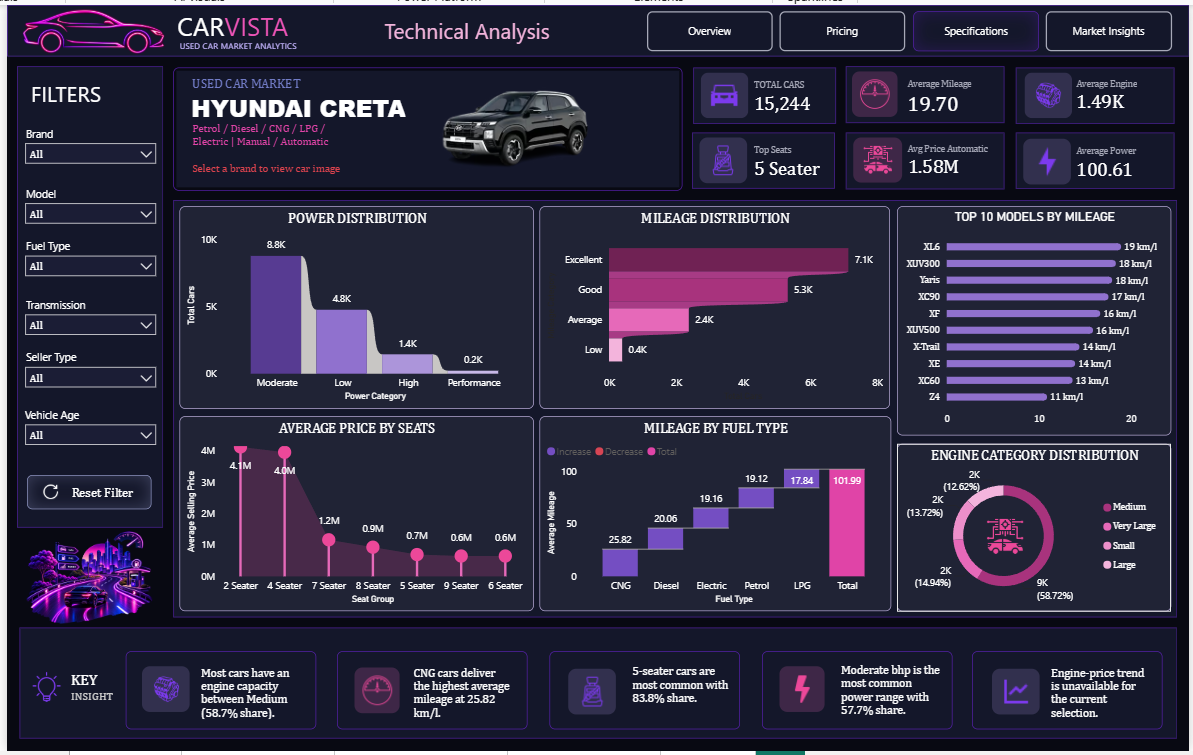

The page's visual inventory and layout, read from the dashboard file:
{"tool":"powerbi","page":{"name":"Technical Analysis","canvas":[1490,940],"ordinal":2},"visuals":[{"type":"shape","box":[0,0,1490,65],"z":0},{"type":"image","box":[29.7,834.1,40,50],"z":0,"group":"g9"},{"type":"group","id":"g1","title":"Group 1","box":[210,0,253.8,67.5],"z":1000},{"type":"textbox","box":[210,0,174.6,56.3],"z":1000,"group":"g1"},{"type":"textbox","box":[75.2,834.1,75.5,50.9],"z":1000,"group":"g9"},{"type":"textbox","box":[213,36,250.7,31],"z":2000,"group":"g1"},{"type":"shape","box":[12.9,77.1,184.3,581.4],"z":2000},{"type":"shape","box":[210,246,1265,526],"z":3000},{"type":"shape","box":[1056.7,160,200,71.7],"z":4000},{"type":"shape","box":[863.3,160,180,70.8],"z":5000},{"type":"shape","box":[15.7,785,1458.8,140],"z":6000},{"type":"shape","box":[1215.7,815,240,98.6],"z":7000},{"type":"shape","box":[950.7,815,240,98.6],"z":8000},{"type":"shape","box":[683.2,815,240,98.6],"z":9000},{"type":"shape","box":[415.7,813.8,240,98.6],"z":10000},{"type":"shape","box":[149.4,815,240,98.6],"z":11000},{"type":"shape","box":[1150.6,48.8,141.7,15.8],"z":12000},{"type":"textbox","box":[25,88.8,125,48.8],"z":13000},{"type":"group","id":"g2","title":"Group 2","box":[12.5,148,185,63.4],"z":14000},{"type":"group","id":"g3","title":"Group 2","box":[12.5,223,185,63],"z":15000},{"type":"group","id":"g4","title":"Group 2","box":[12.5,289.5,185,63],"z":16000},{"type":"group","id":"g5","title":"Group 2","box":[12.5,364.3,185,63],"z":17000},{"type":"group","id":"g6","title":"Group 2","box":[12.5,430.8,185,63],"z":18000},{"type":"group","id":"g7","title":"Group 2","box":[12.5,503,185,63.5],"z":19000},{"type":"shape","box":[210,78.3,641.7,155],"z":20000},{"type":"clusteredBarChart","title":"TOP 10 MODELS BY MILEAGE","fields":{"Category":["cardekho_dataset.model"],"Y":["cardekho_dataset.Average Mileage"]},"box":[1121.4,254.3,345.7,288.6],"z":21000},{"type":"barChart","title":"MILEAGE DISTRIBUTION","fields":{"Category":["cardekho_dataset.Mileage Category"],"Y":["cardekho_dataset.Total Cars"]},"box":[671.7,253.3,441.7,255],"z":22000},{"type":"shape","box":[864.1,78.2,180,71.2],"z":23000},{"type":"slicer","fields":{"Values":["cardekho_dataset.brand"]},"box":[12.5,163.9,185,47.5],"z":23000,"group":"g2"},{"type":"slicer","fields":{"Values":["cardekho_dataset.model"]},"box":[12.5,238.9,185,47.5],"z":23000,"group":"g3"},{"type":"slicer","fields":{"Values":["cardekho_dataset.fuel_type"]},"box":[12.5,305.4,185,47.5],"z":23000,"group":"g4"},{"type":"slicer","fields":{"Values":["cardekho_dataset.transmission_type"]},"box":[12.5,380.2,185,47.5],"z":23000,"group":"g5"},{"type":"slicer","fields":{"Values":["cardekho_dataset.seller_type"]},"box":[12.5,446.8,185,47],"z":23000,"group":"g6"},{"type":"slicer","fields":{"Values":["cardekho_dataset.Vehicle Age Group"]},"box":[12.5,519,185,47.5],"z":23000,"group":"g7"},{"type":"shape","box":[1056.7,76.7,200,71.7],"z":24000},{"type":"textbox","box":[19.3,148,85.7,30.7],"z":24000,"group":"g2"},{"type":"textbox","box":[19.3,223,85.7,30.7],"z":24000,"group":"g3"},{"type":"textbox","box":[19.3,289.5,85.7,30.7],"z":24000,"group":"g4"},{"type":"textbox","box":[19.3,364.3,85.7,30.7],"z":24000,"group":"g5"},{"type":"textbox","box":[19.3,430.8,85.7,30.7],"z":24000,"group":"g6"},{"type":"textbox","box":[17.3,503,85.7,30.7],"z":24000,"group":"g7"},{"type":"textbox","box":[228.8,85,173.8,38.8],"z":25000},{"type":"shape","box":[25.7,592.9,157,42.9],"z":25000,"group":"g8"},{"type":"cardVisual","fields":{"Data":["cardekho_dataset.Total Cars"]},"box":[912,67,170,96.2],"z":26000},{"type":"image","box":[874.5,84.6,60,57.5],"z":27000},{"type":"image","box":[1066.7,166.7,61.7,56.7],"z":28000},{"type":"image","box":[872.5,167.1,60,57.5],"z":29000},{"type":"image","box":[1065,83.3,57.5,57.5],"z":30000},{"type":"cardVisual","fields":{"Data":["cardekho_dataset.Top Seats"]},"box":[912,149,153.3,95],"z":31000},{"type":"image","box":[435,85,408.3,148.3],"z":32000},{"type":"cardVisual","fields":{"Data":["Car_Images.Hero Car Name"]},"box":[203.8,93.8,415,67.5],"z":33000},{"type":"cardVisual","fields":{"Data":["Car_Images.Hero Subtitle"]},"box":[228.8,140,221.2,63.8],"z":34000},{"type":"cardVisual","fields":{"Data":["Car_Images.Car Image Status"]},"box":[228.8,191.2,221.2,75],"z":35000},{"type":"group","id":"g8","title":"Group 3","box":[25.7,592.9,157,43.3],"z":36000},{"type":"image","box":[169.4,833.8,60,57.5],"z":37000},{"type":"image","box":[438.2,835,57,57.8],"z":38000},{"type":"image","box":[707.9,835.8,60,57.8],"z":39000},{"type":"image","box":[973.2,833.8,57,57.8],"z":40000},{"type":"image","box":[1240.7,836.3,60,57.8],"z":41000},{"type":"cardVisual","fields":{"Data":["cardekho_dataset.Specification Insight Engine"]},"box":[240,825,138.3,100],"z":42000},{"type":"cardVisual","fields":{"Data":["cardekho_dataset.Specification Insight Mileage"]},"box":[506.7,825,133.3,100],"z":43000},{"type":"cardVisual","fields":{"Data":["cardekho_dataset.Specification Insight Seats"]},"box":[783,824.3,138,111.7],"z":44000},{"type":"cardVisual","fields":{"Data":["cardekho_dataset.Specification Insight Power"]},"box":[1045.3,822,135.7,114],"z":45000},{"type":"cardVisual","fields":{"Data":["cardekho_dataset.Specification Insight Trend"]},"box":[1310,825,135,100],"z":46000},{"type":"group","id":"g9","title":"Group 4","box":[29.7,834.1,120.9,50.9],"z":47000},{"type":"donutChart","title":"ENGINE CATEGORY DISTRIBUTION","fields":{"Category":["cardekho_dataset.Engine Category"],"Y":["cardekho_dataset.Total Cars"]},"box":[1121.4,552.9,345.7,211.4],"z":48000},{"type":"lineChart","title":"AVERAGE PRICE BY SEATS","fields":{"Category":["cardekho_dataset.Seat Group"],"Y":["cardekho_dataset.Average Selling Price"]},"box":[217.1,518.6,446,245.7],"z":49000},{"type":"columnChart","title":"POWER DISTRIBUTION","fields":{"Category":["cardekho_dataset.Power Category"],"Y":["cardekho_dataset.Total Cars"]},"box":[216.7,253.3,446.7,255],"z":50000},{"type":"waterfallChart","title":"MILEAGE BY FUEL TYPE","fields":{"Category":["cardekho_dataset.fuel_type"],"Y":["cardekho_dataset.Average Mileage"]},"box":[671.4,518.6,443,245.7],"z":51000},{"type":"shape","box":[1271.7,160,200,71.2],"z":52000},{"type":"shape","box":[1271.7,78.3,200,71.2],"z":53000},{"type":"image","box":[33.8,593.1,43.8,43.1],"z":53010,"group":"g8"},{"type":"image","box":[1281.9,85.3,60,57.5],"z":54000},{"type":"image","box":[1279.9,167.8,60,57.5],"z":55000},{"type":"cardVisual","fields":{"Data":["cardekho_dataset.Avg Price Automatic"]},"box":[1106,148,165,95],"z":56000},{"type":"cardVisual","fields":{"Data":["cardekho_dataset.Average Power"]},"box":[1318,151.3,153.3,95],"z":57000},{"type":"cardVisual","fields":{"Data":["cardekho_dataset.Average Mileage"]},"box":[1106,68,153.3,95],"z":58000},{"type":"cardVisual","fields":{"Data":["cardekho_dataset.Average Engine"]},"box":[1319,66,153.3,95],"z":59000},{"type":"image","box":[0,0,218.3,65],"z":60000},{"type":"actionButton","box":[806.8,7.4,158.3,50],"z":61000},{"type":"actionButton","box":[1309.2,7.5,159.2,50],"z":62000},{"type":"actionButton","box":[973.3,7.5,158.8,50],"z":63000},{"type":"actionButton","box":[1141.7,7.5,158.8,50],"z":64000},{"type":"textbox","box":[450,10,258.6,50],"z":65000},{"type":"image","box":[1227.1,641.4,61.7,56.7],"z":69000},{"type":"image","box":[12.6,658.4,184.3,126],"z":69001}]}

Visuals, with their boxes in screenshot pixels (x1, y1, x2, y2), scaled from the page's 1490x940 canvas onto the 1193x755 screenshot:
shape: [0,0,1192,52]
image: [24,670,56,710]
"Group 1" group: [168,0,371,54]
textbox: [168,0,308,45]
textbox: [60,670,121,711]
textbox: [171,29,371,54]
shape: [10,62,158,529]
shape: [168,198,1181,620]
shape: [846,129,1006,186]
shape: [691,129,835,185]
shape: [13,631,1181,743]
shape: [973,655,1166,734]
shape: [761,655,953,734]
shape: [547,655,739,734]
shape: [333,654,525,733]
shape: [120,655,312,734]
shape: [921,39,1035,52]
textbox: [20,71,120,111]
"Group 2" group: [10,119,158,170]
"Group 2" group: [10,179,158,230]
"Group 2" group: [10,233,158,283]
"Group 2" group: [10,293,158,343]
"Group 2" group: [10,346,158,397]
"Group 2" group: [10,404,158,455]
shape: [168,63,682,187]
"TOP 10 MODELS BY MILEAGE" clusteredBarChart: [898,204,1175,436]
"MILEAGE DISTRIBUTION" barChart: [538,203,891,408]
shape: [692,63,836,120]
slicer - cardekho_dataset.brand: [10,132,158,170]
slicer - cardekho_dataset.model: [10,192,158,230]
slicer - cardekho_dataset.fuel_type: [10,245,158,283]
slicer - cardekho_dataset.transmission_type: [10,305,158,344]
slicer - cardekho_dataset.seller_type: [10,359,158,397]
slicer - cardekho_dataset.Vehicle Age Group: [10,417,158,455]
shape: [846,62,1006,119]
textbox: [15,119,84,144]
textbox: [15,179,84,204]
textbox: [15,233,84,257]
textbox: [15,293,84,317]
textbox: [15,346,84,371]
textbox: [14,404,82,429]
textbox: [183,68,322,99]
shape: [21,476,146,511]
cardVisual - cardekho_dataset.Total Cars: [730,54,866,131]
image: [700,68,748,114]
image: [854,134,903,179]
image: [699,134,747,180]
image: [853,67,899,113]
cardVisual - cardekho_dataset.Top Seats: [730,120,853,196]
image: [348,68,675,187]
cardVisual - Car_Images.Hero Car Name: [163,75,495,130]
cardVisual - Car_Images.Hero Subtitle: [183,112,360,164]
cardVisual - Car_Images.Car Image Status: [183,154,360,214]
"Group 3" group: [21,476,146,511]
image: [136,670,184,716]
image: [351,671,396,717]
image: [567,671,615,718]
image: [779,670,825,716]
image: [993,672,1041,718]
cardVisual - cardekho_dataset.Specification Insight Engine: [192,663,303,743]
cardVisual - cardekho_dataset.Specification Insight Mileage: [406,663,512,743]
cardVisual - cardekho_dataset.Specification Insight Seats: [627,662,737,752]
cardVisual - cardekho_dataset.Specification Insight Power: [837,660,946,752]
cardVisual - cardekho_dataset.Specification Insight Trend: [1049,663,1157,743]
"Group 4" group: [24,670,121,711]
"ENGINE CATEGORY DISTRIBUTION" donutChart: [898,444,1175,614]
"AVERAGE PRICE BY SEATS" lineChart: [174,417,531,614]
"POWER DISTRIBUTION" columnChart: [174,203,531,408]
"MILEAGE BY FUEL TYPE" waterfallChart: [538,417,892,614]
shape: [1018,129,1178,186]
shape: [1018,63,1178,120]
image: [27,476,62,511]
image: [1026,69,1074,115]
image: [1025,135,1073,181]
cardVisual - cardekho_dataset.Avg Price Automatic: [886,119,1018,195]
cardVisual - cardekho_dataset.Average Power: [1055,122,1178,198]
cardVisual - cardekho_dataset.Average Mileage: [886,55,1008,131]
cardVisual - cardekho_dataset.Average Engine: [1056,53,1179,129]
image: [0,0,175,52]
actionButton: [646,6,773,46]
actionButton: [1048,6,1176,46]
actionButton: [779,6,906,46]
actionButton: [914,6,1041,46]
textbox: [360,8,567,48]
image: [983,515,1032,561]
image: [10,529,158,630]
